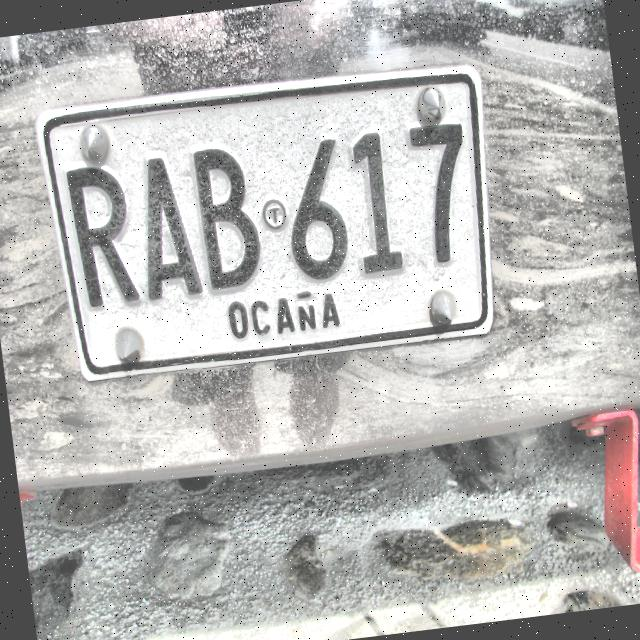plate: (35, 64, 493, 382)
